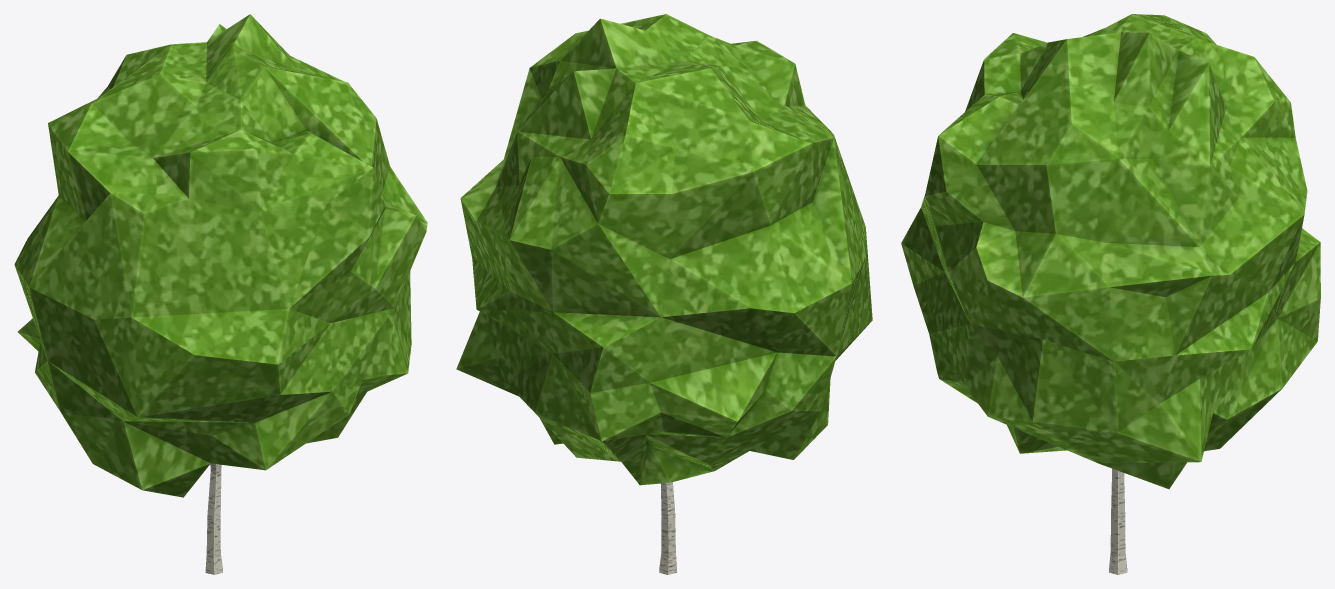
Rendered from b0BZj34bN-K.glb.
The picture shows the model from 3 angles, left to right: view 1: azimuth 30°, elevation 25°; view 2: azimuth 150°, elevation 25°; view 3: azimuth 270°, elevation 25°; orthographic projection. The views are drawn at different scales.
Parts seen in each view (by area): view 1: BirchTree_mesh; view 2: BirchTree_mesh; view 3: BirchTree_mesh.
Part boxes in pixels (bbox=[...]): BirchTree_mesh: bbox=[14, 14, 427, 574]; BirchTree_mesh: bbox=[456, 14, 872, 574]; BirchTree_mesh: bbox=[901, 14, 1320, 574].
Bounding box in the file's own units: 0.6866 × 1 × 0.6745.
Materials: 1 (1 with a texture image).
